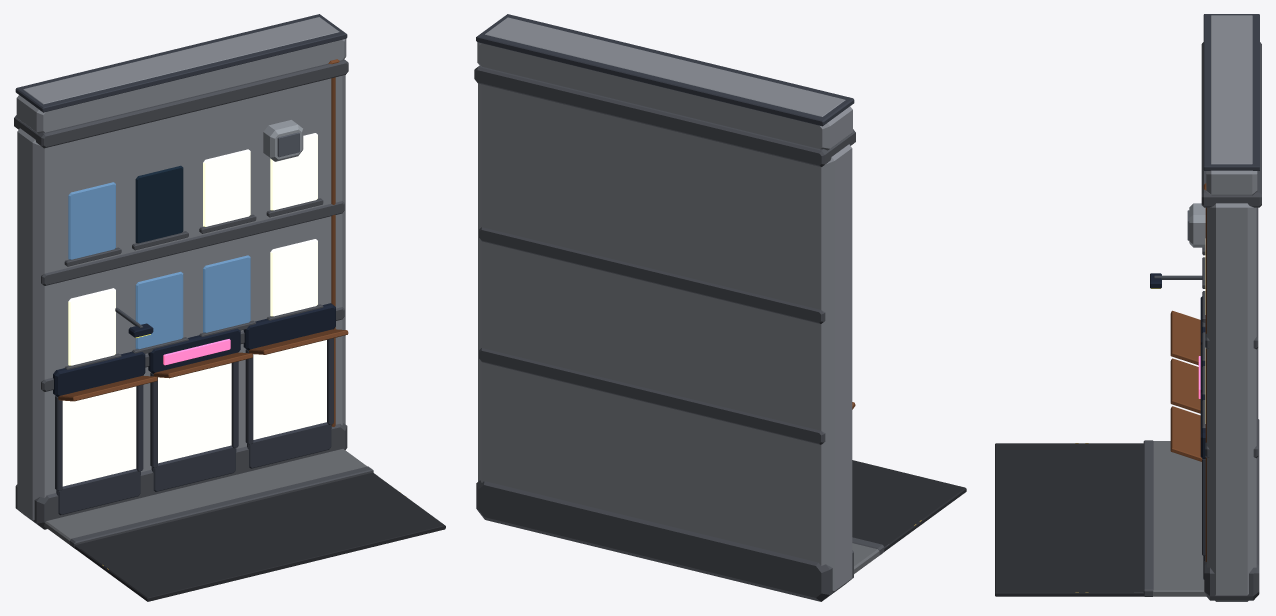
The model's file is spire_wall_boundary.glb.
3 views of the same model, side by side, from view 1: azimuth 30°, elevation 25°; view 2: azimuth 150°, elevation 25°; view 3: azimuth 270°, elevation 25° (orthographic). The views are drawn at different scales.
Parts seen in each view (by area): view 1: block_body, street_asphalt, block_parapet, street_pavement, shop_glass-3.2, shop_glass0, shop_glass3.2, block_cornice, block_coping, block_band1, block_win1_1, block_win0_0 (+26 smaller); view 2: block_body, block_parapet, block_plinth, block_cornice, street_asphalt, block_coping, block_band0, block_band1; view 3: street_asphalt, block_body, block_parapet, street_pavement, block_coping, street_kerb, block_cornice, shop_awning3.2, shop_awning-3.2, shop_awning0, block_plinth, block_ac (+4 smaller).
Boxes of the visible parts, bbox=[...] form: block_body: bbox=[17, 75, 345, 520]; street_asphalt: bbox=[74, 472, 445, 601]; block_parapet: bbox=[16, 17, 346, 133]; street_pavement: bbox=[44, 449, 367, 544]; shop_glass-3.2: bbox=[62, 386, 136, 486]; shop_glass0: bbox=[158, 363, 231, 463]; shop_glass3.2: bbox=[253, 340, 326, 439]; block_cornice: bbox=[14, 59, 348, 148]; block_coping: bbox=[15, 14, 347, 112]; block_band1: bbox=[41, 201, 344, 285]; block_win1_1: bbox=[135, 165, 183, 243]; block_win0_0: bbox=[68, 288, 115, 365]; block_body: bbox=[478, 83, 852, 591]; block_parapet: bbox=[477, 17, 852, 150]; block_plinth: bbox=[476, 480, 853, 601]; block_cornice: bbox=[474, 65, 855, 166]; street_asphalt: bbox=[852, 460, 966, 551]; block_coping: bbox=[476, 14, 854, 126]; block_band0: bbox=[479, 348, 825, 444]; block_band1: bbox=[479, 227, 825, 323]; street_asphalt: bbox=[995, 443, 1144, 596]; block_body: bbox=[1207, 203, 1256, 601]; block_parapet: bbox=[1206, 15, 1257, 195]; street_pavement: bbox=[1153, 441, 1206, 596]; block_coping: bbox=[1203, 14, 1259, 170]; street_kerb: bbox=[1143, 440, 1153, 596]; block_cornice: bbox=[1201, 42, 1261, 207]; shop_awning3.2: bbox=[1170, 406, 1202, 461]; shop_awning-3.2: bbox=[1170, 310, 1200, 365]; shop_awning0: bbox=[1170, 358, 1200, 413]; block_plinth: bbox=[1204, 419, 1259, 600]; block_ac: bbox=[1189, 203, 1205, 247].
Size of the model in its own units: 10.5 by 13.75 by 7.55.
